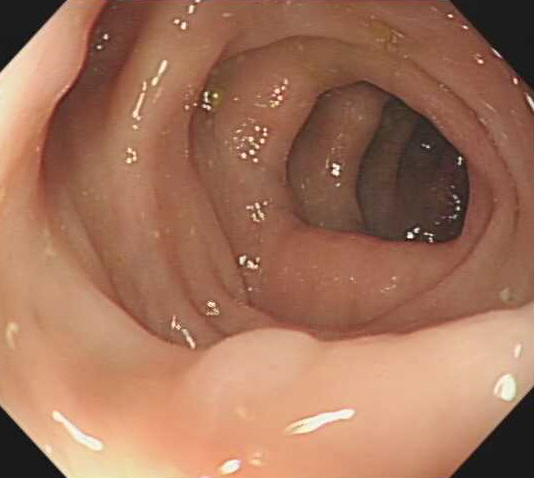others: (178, 327, 320, 408)
